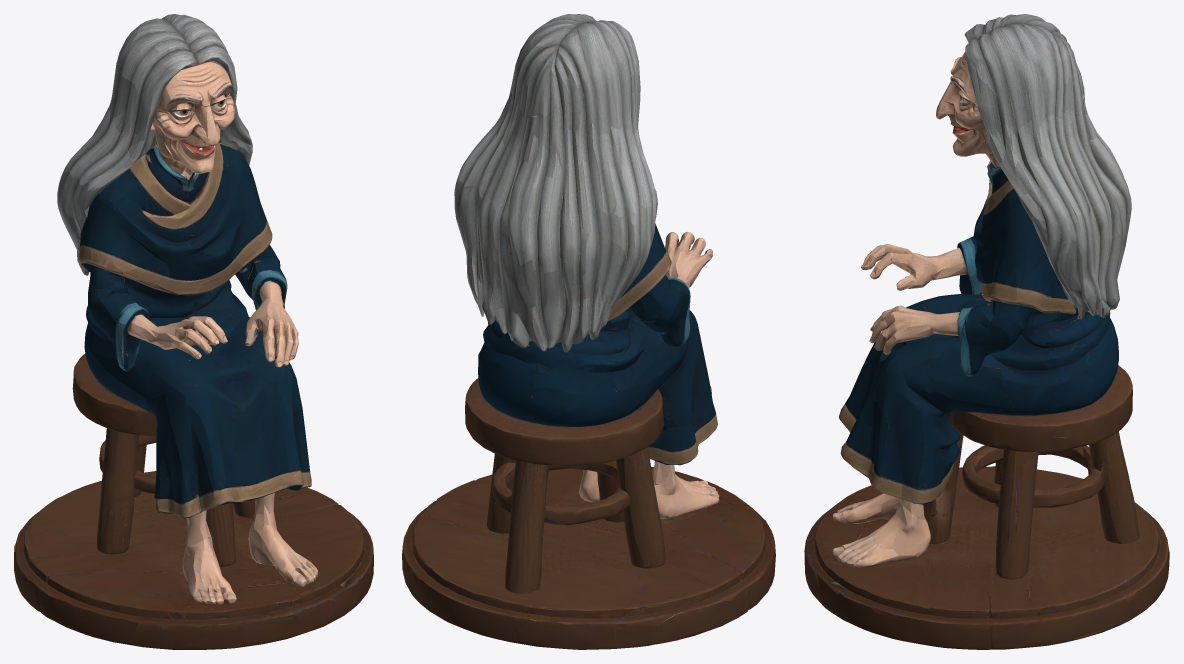
Rendered from hama.glb.
3 views of the same model, side by side, from view 1: azimuth 30°, elevation 25°; view 2: azimuth 150°, elevation 25°; view 3: azimuth 270°, elevation 25° (orthographic). The views are drawn at different scales.
Visible parts, largest first — view 1: Mesh_0; view 2: Mesh_0; view 3: Mesh_0.
Boxes of the visible parts, left/top/right/bottom form: Mesh_0: left=14, top=14, right=373, bottom=649; Mesh_0: left=402, top=14, right=775, bottom=649; Mesh_0: left=804, top=14, right=1169, bottom=649.
Size of the model in its own units: 1.14 by 1.9 by 1.14.
1 material, 1 textured.
